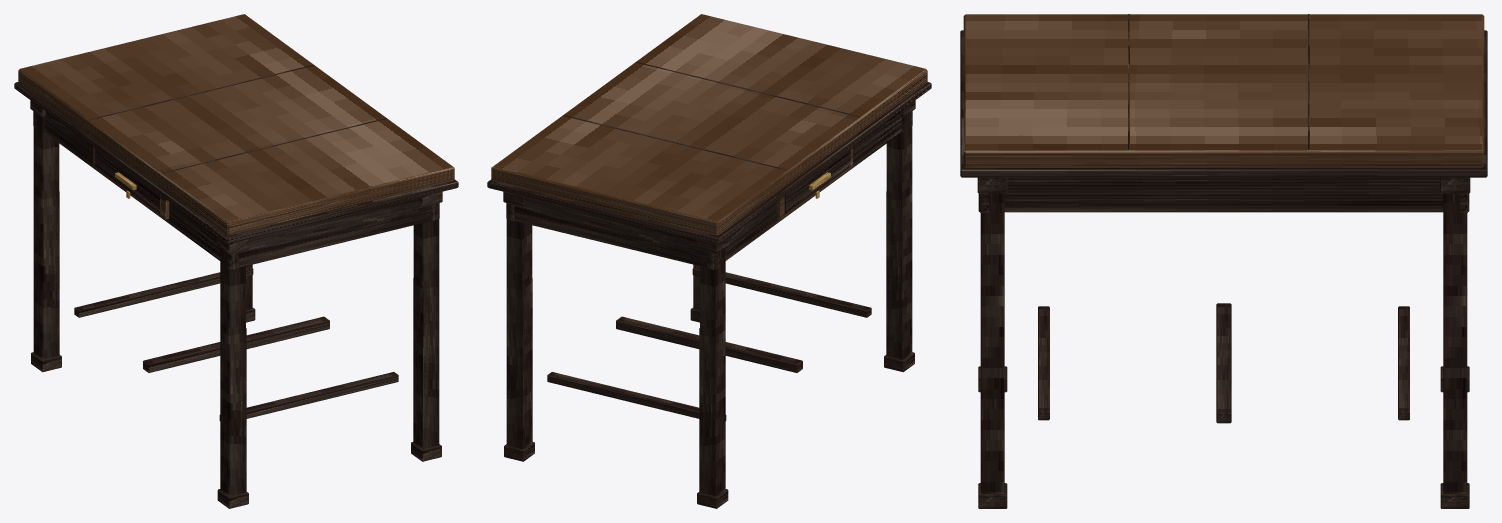
The model's file is table_static.glb.
3 views of the same model, side by side, from view 1: azimuth 30°, elevation 25°; view 2: azimuth 150°, elevation 25°; view 3: azimuth 270°, elevation 25° (orthographic). The views are drawn at different scales.
Parts seen in each view (by area): view 1: table_static; view 2: table_static; view 3: table_static.
Part boxes in pixels (bbox=[...]): table_static: bbox=[14, 14, 458, 508]; table_static: bbox=[487, 14, 931, 508]; table_static: bbox=[960, 14, 1487, 508].
Bounding box in the file's own units: 0.664 × 0.801 × 1.05.
3 materials, 3 textured.
